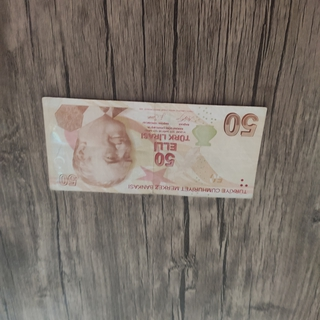50TLFront: (41, 96, 267, 199)
